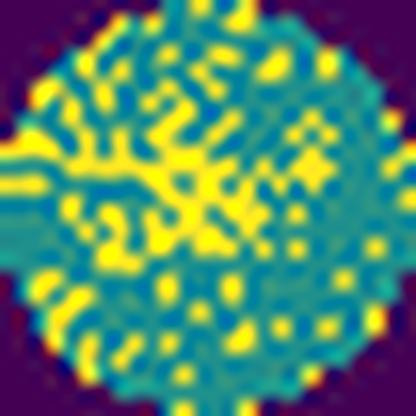Center: (61, 88, 338, 272)
